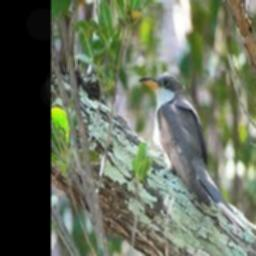Cuckoo: (140, 72, 238, 217)
